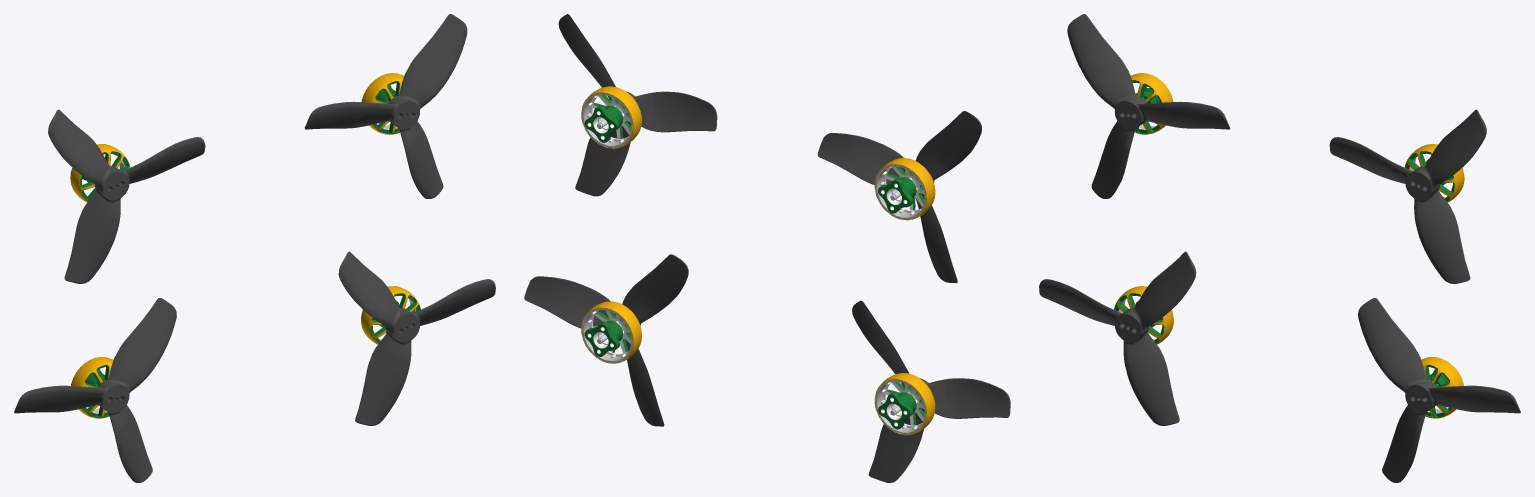
File: drive.glb
3 views of the same model, side by side, from view 1: azimuth 30°, elevation 25°; view 2: azimuth 150°, elevation 25°; view 3: azimuth 330°, elevation 25° (orthographic).
Visible parts, largest first — view 1: prop-3, prop-1, prop-4, prop-2, motor-1-body-0, motor-2-body-0, motor-3-body-4, motor-4-body-0; view 2: prop-4, prop-1, prop-2, prop-3, motor-3-body-4, motor-2-body-0, motor-4-body-0, motor-1-body-0, motor-3-body-3, motor-2-body-1, motor-1-body-4, motor-4-body-2 (+4 smaller); view 3: prop-4, prop-2, prop-3, prop-1, motor-4-body-0, motor-3-body-4, motor-1-body-0, motor-2-body-0.
Boxes of the visible parts, <box> form: prop-3: <box>14,298,176,482</box>; prop-1: <box>48,109,205,283</box>; prop-4: <box>338,251,495,425</box>; prop-2: <box>305,14,467,198</box>; motor-1-body-0: <box>361,73,403,134</box>; motor-2-body-0: <box>71,357,113,418</box>; motor-3-body-4: <box>70,144,130,202</box>; motor-4-body-0: <box>361,286,420,344</box>; prop-4: <box>524,254,688,426</box>; prop-1: <box>817,111,981,283</box>; prop-2: <box>558,14,717,196</box>; prop-3: <box>852,300,1010,482</box>; motor-3-body-4: <box>874,158,935,220</box>; motor-2-body-0: <box>874,373,935,435</box>; motor-4-body-0: <box>581,301,641,363</box>; motor-1-body-0: <box>581,86,641,148</box>; motor-3-body-3: <box>878,177,916,213</box>; motor-2-body-1: <box>878,392,916,429</box>; motor-1-body-4: <box>584,105,623,142</box>; motor-4-body-2: <box>584,320,623,356</box>; prop-4: <box>1358,298,1520,482</box>; prop-2: <box>1329,109,1486,283</box>; prop-3: <box>1039,251,1196,425</box>; prop-1: <box>1067,14,1230,198</box>; motor-4-body-0: <box>1421,357,1463,418</box>; motor-3-body-4: <box>1131,73,1173,134</box>; motor-1-body-0: <box>1404,144,1464,202</box>; motor-2-body-0: <box>1114,286,1173,344</box>.
Bounding box in the file's own units: 0.1906 × 0.1478 × 0.0202.
